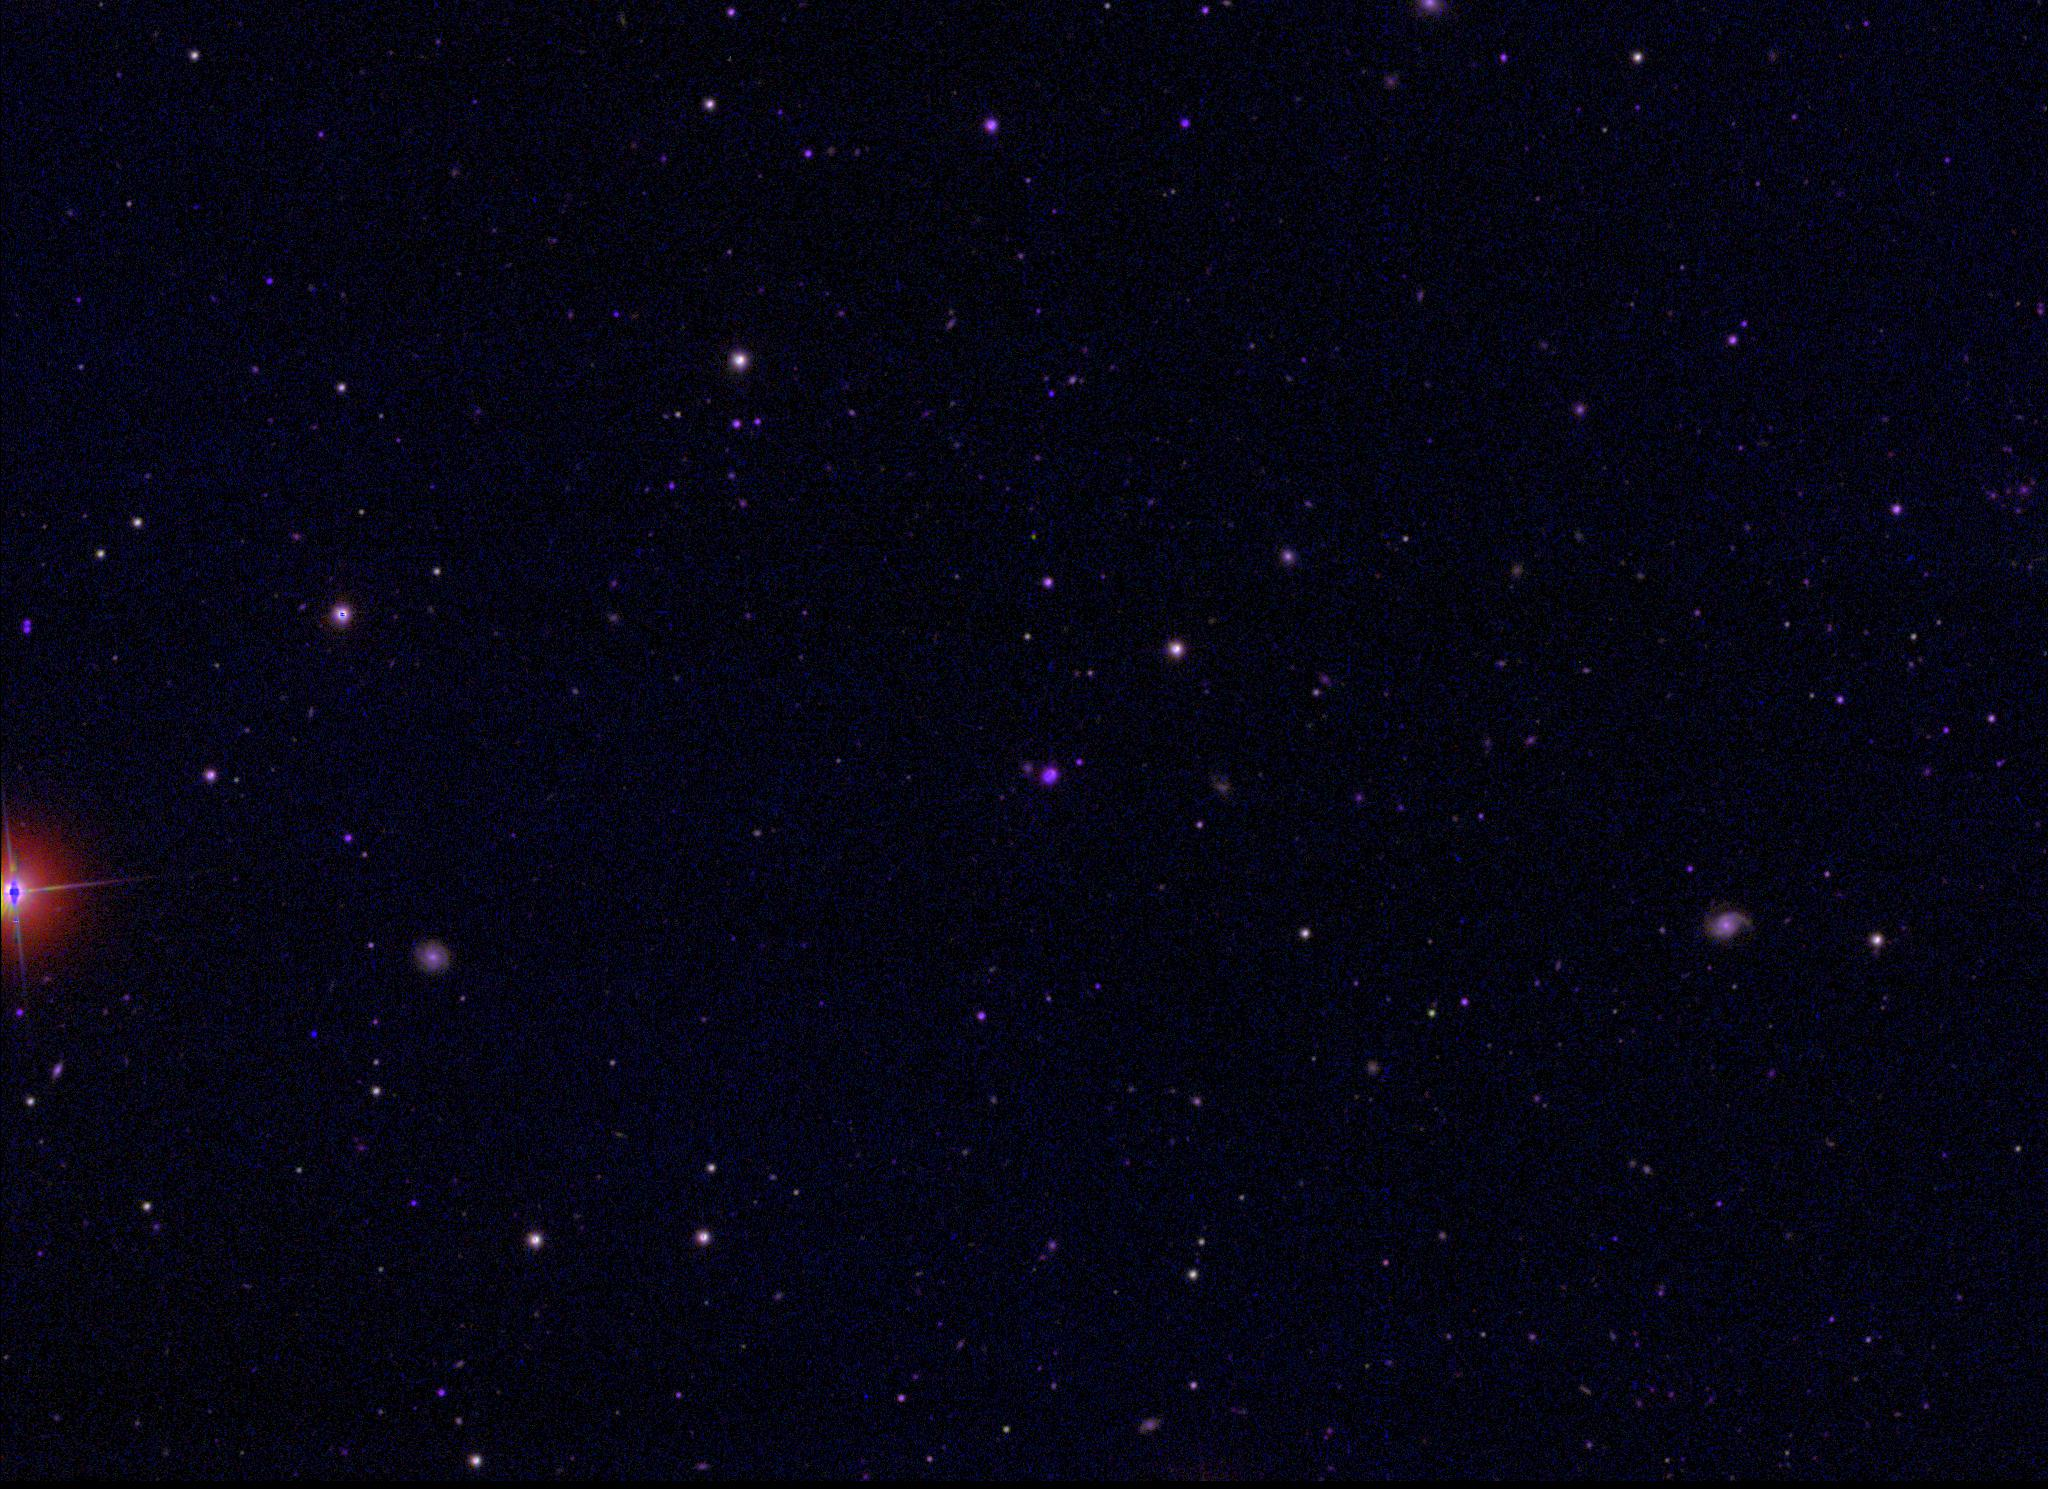L: (307, 1028, 321, 1040)
